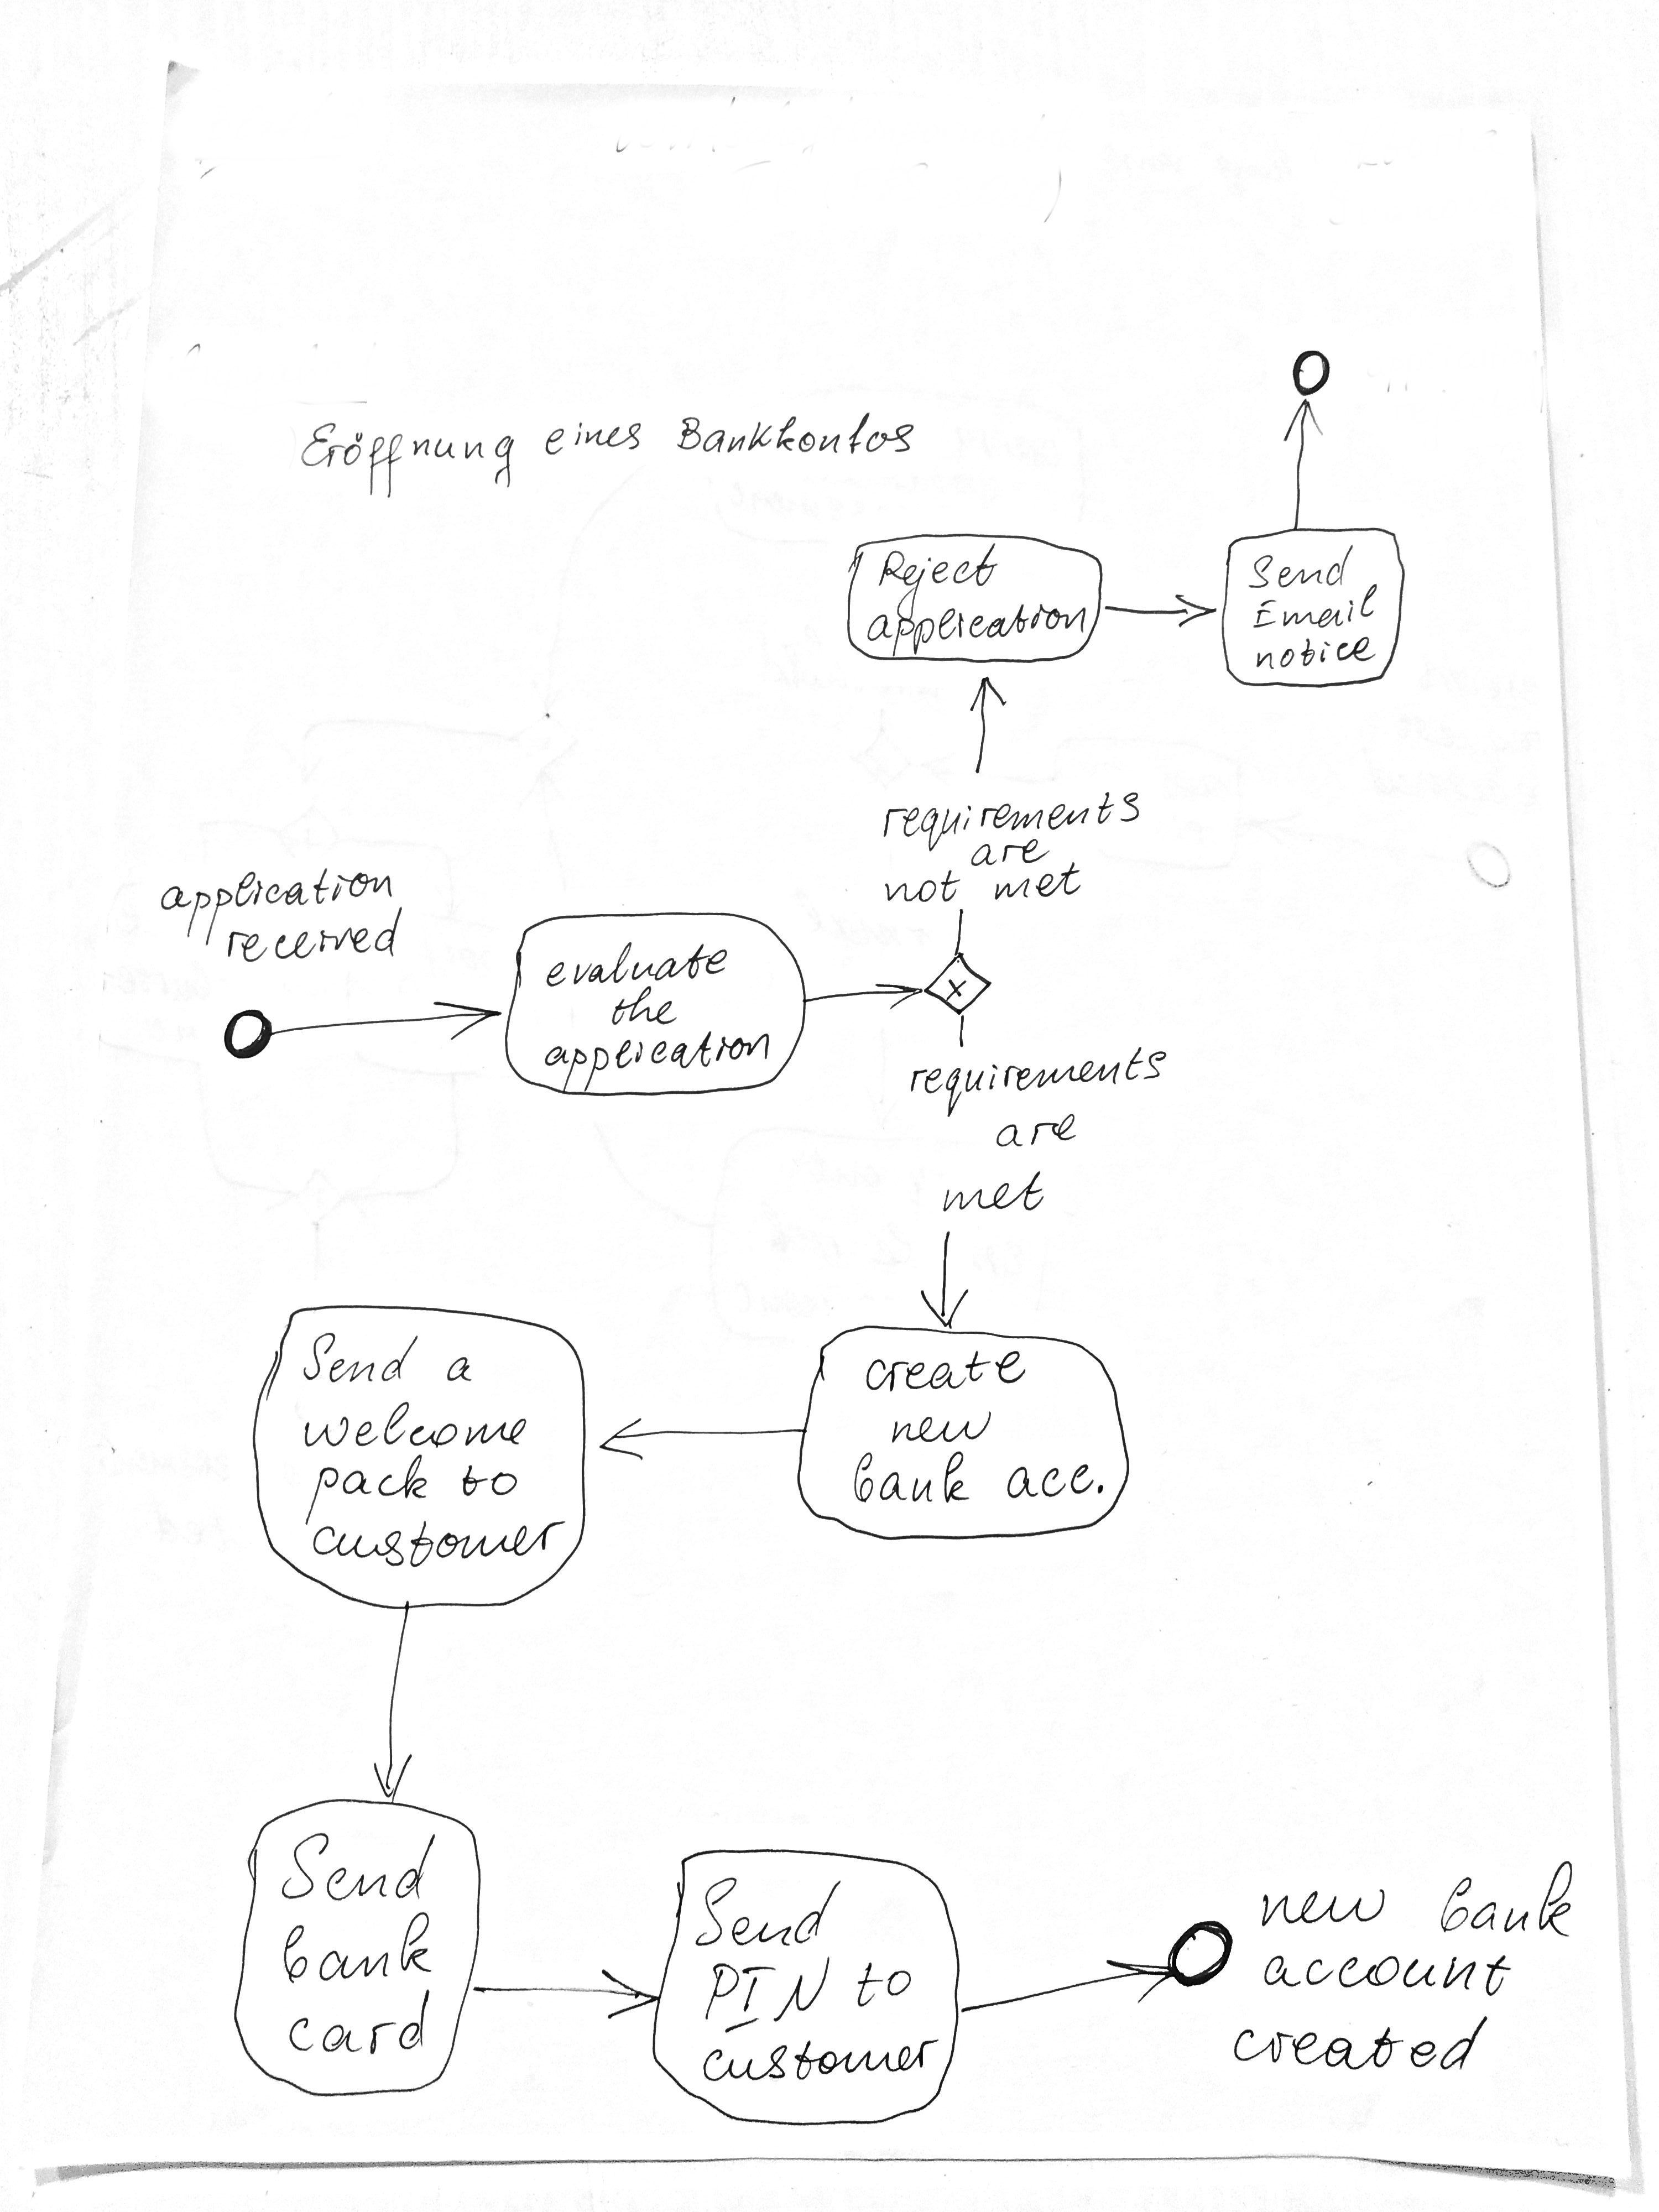Bankkontos: (674, 401, 929, 462)
Email: (1243, 596, 1382, 646)
Eröffnung: (277, 399, 532, 509)
PIN: (690, 1952, 838, 2031)
Reject: (880, 542, 1000, 618)
Send: (279, 1822, 441, 1909), (692, 1876, 842, 1952), (303, 1325, 430, 1399), (1249, 542, 1361, 594)
a: (446, 1353, 476, 1390)
acc.: (1002, 1449, 1110, 1508)
account: (1251, 1939, 1518, 2006)
application: (537, 1029, 775, 1092), (145, 876, 404, 934), (870, 599, 1093, 657)
are: (993, 1108, 1082, 1157), (965, 833, 1051, 869)
bank: (1417, 1858, 1593, 1937), (274, 1909, 436, 1991), (836, 1453, 990, 1510)
card: (282, 1991, 441, 2062)
create: (866, 1346, 1028, 1395)
created: (1232, 2012, 1497, 2078)
customer: (701, 2033, 941, 2090), (312, 1514, 570, 1566)
eines: (537, 415, 666, 469)
evaluate: (544, 942, 732, 996)
met: (925, 1172, 1047, 1217), (988, 869, 1086, 907)
new: (1253, 1874, 1401, 1935), (880, 1406, 995, 1449)
not: (870, 869, 971, 904)
notice: (1256, 631, 1380, 676)
pack: (288, 1456, 446, 1524)
received: (218, 907, 408, 968)
requirements: (901, 1045, 1169, 1116), (880, 791, 1145, 848)
the: (606, 988, 678, 1026)
to: (849, 1956, 917, 2015), (457, 1461, 523, 1505)
welcome: (282, 1393, 533, 1454)
